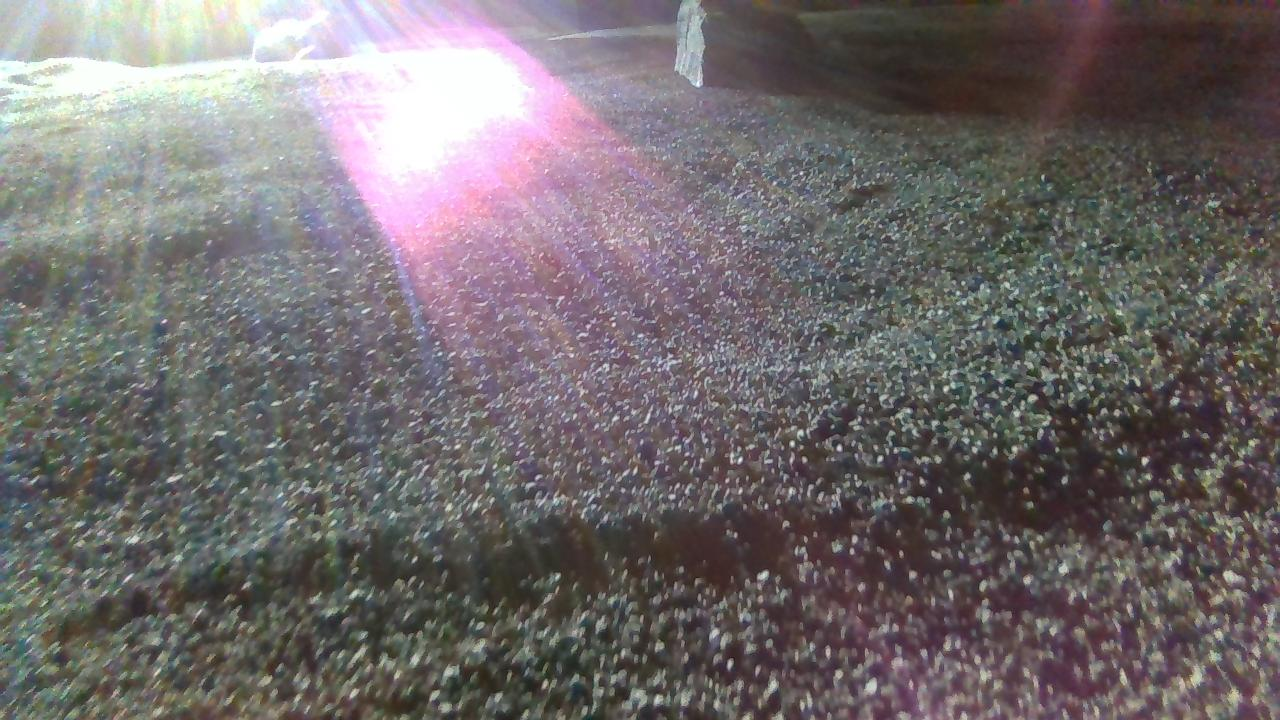rock: (675, 0, 821, 88), (254, 12, 345, 62)
